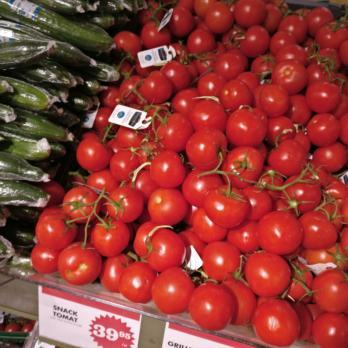Tomato: (139, 0, 348, 344), (66, 124, 149, 294)
